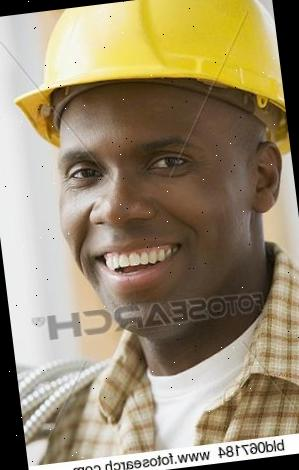helmet: (0, 0, 289, 180)
